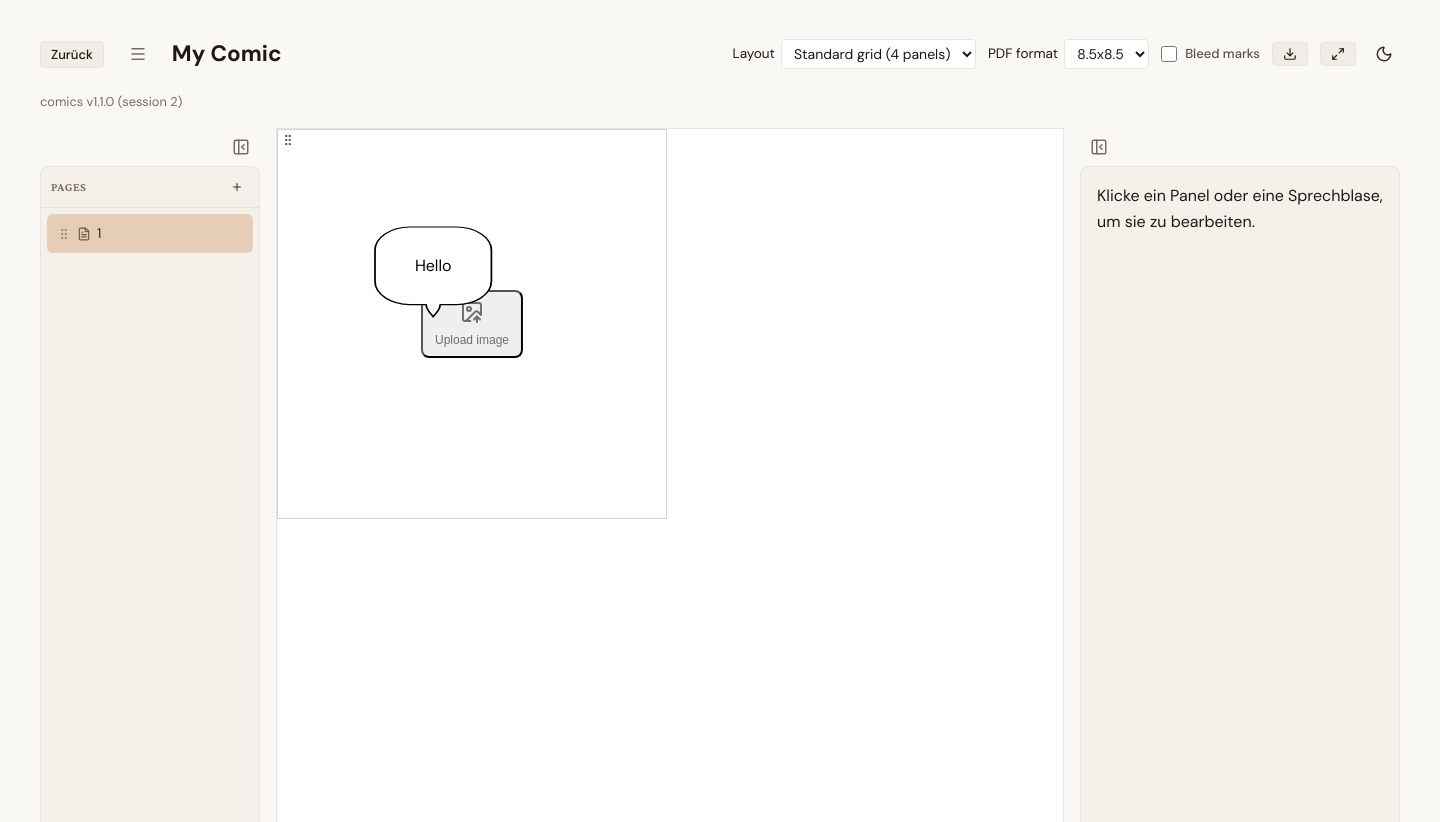
Test: ComicBookEditor (Session 2 C6 full editor) › Add Bubble auto-selects the new bubble (LayoutConfigComicBubble side-pane mounts)
The width and height of the screenshot is (1440, 822).
Click the button "Upload image Hello": [472, 324] box [277, 130, 667, 520]
(page scrolled)
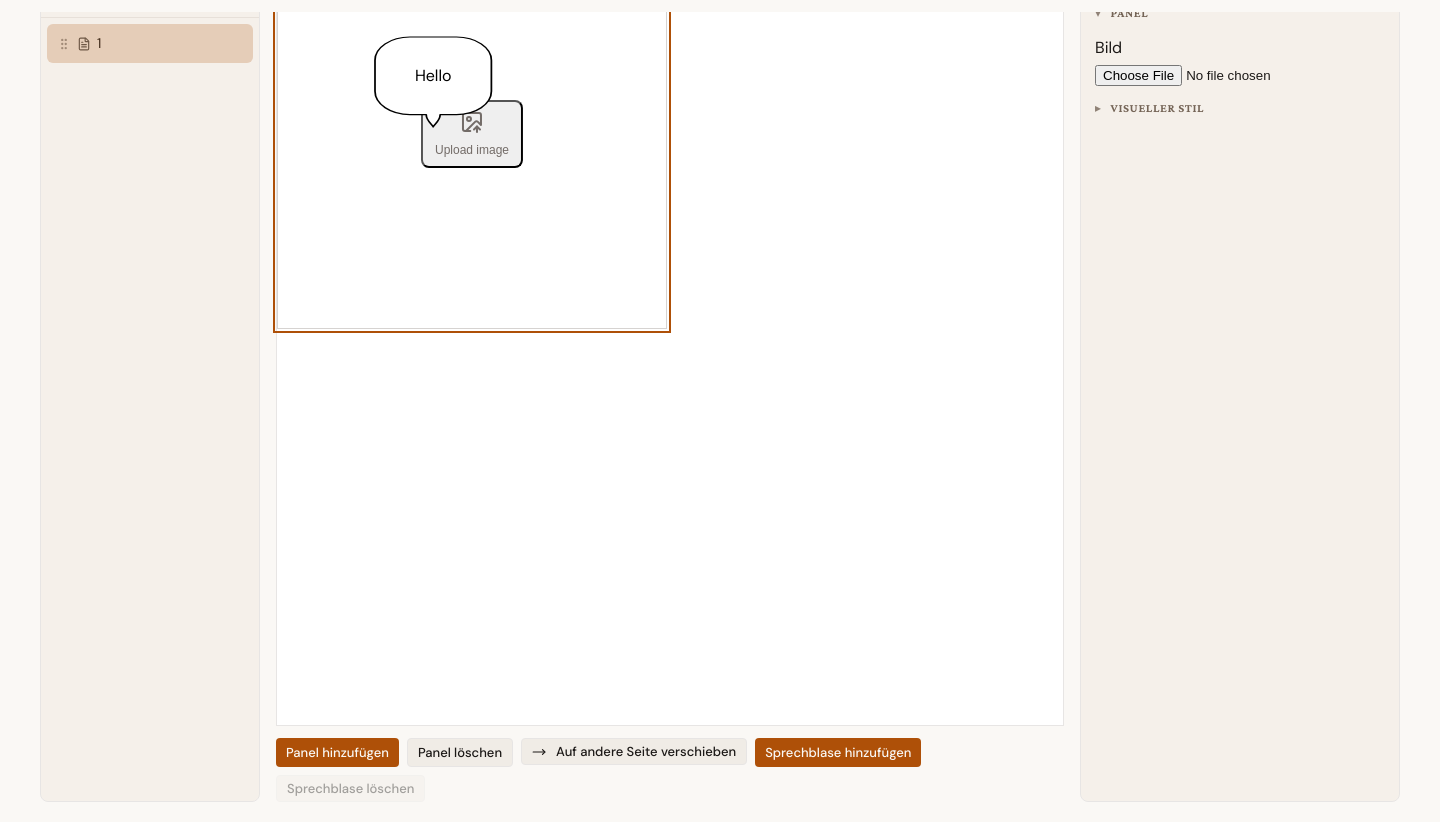
Expected: the button with test id "comic-book-editor-add-bubble" is enabled
Expected: the element with test id "layout-config-comic-panel" is shown, [1081, 12, 1399, 152]
Click the button with test id "comic-book-editor-add-bubble": [838, 753] box [755, 738, 922, 767]
(page scrolled)
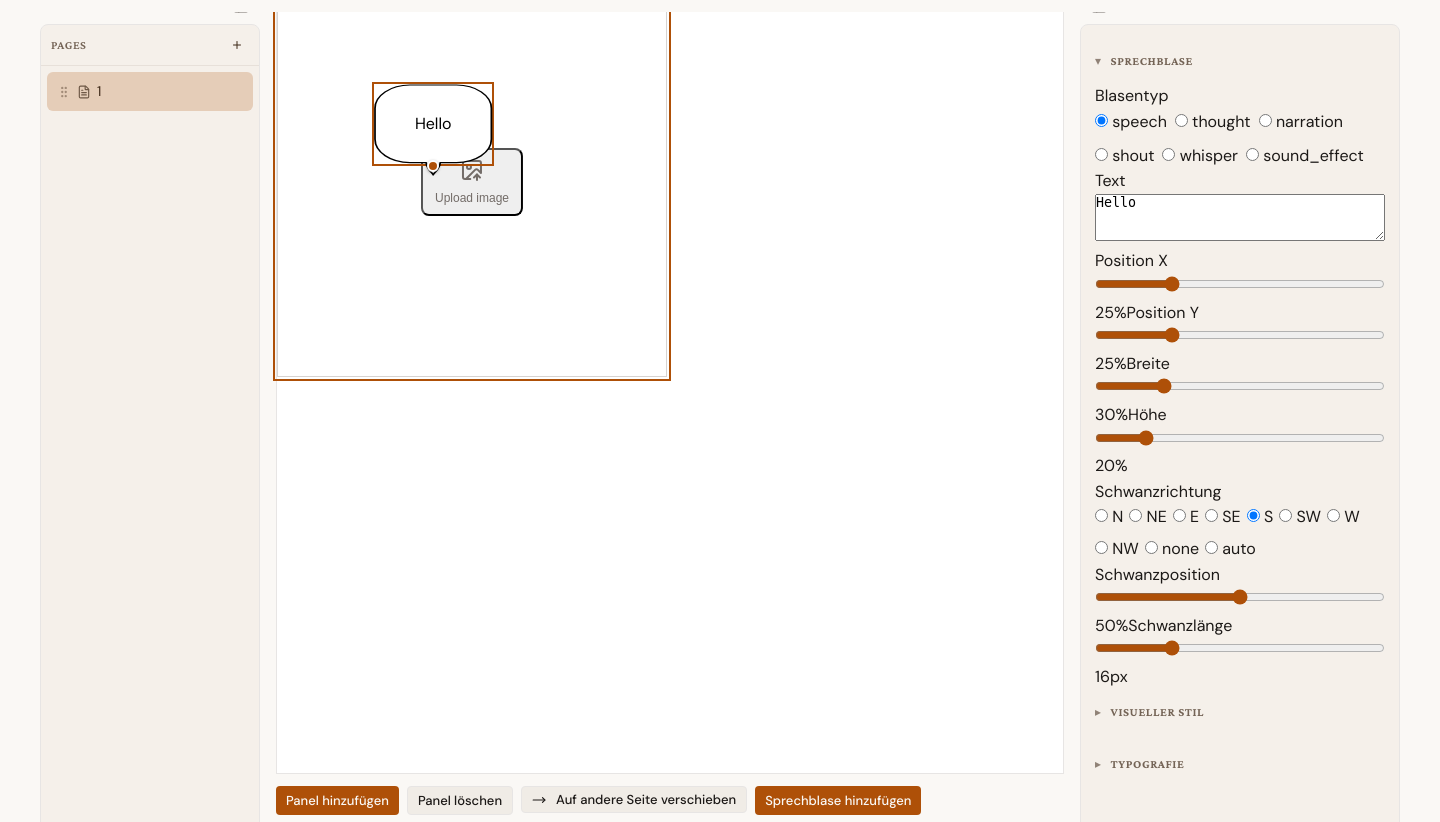
Expected: the element with test id "layout-config-comic-bubble" is shown, [1081, 26, 1399, 808]
